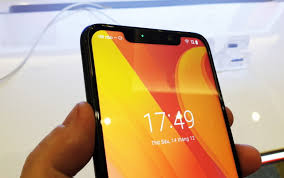vsmart: (76, 21, 244, 178)
